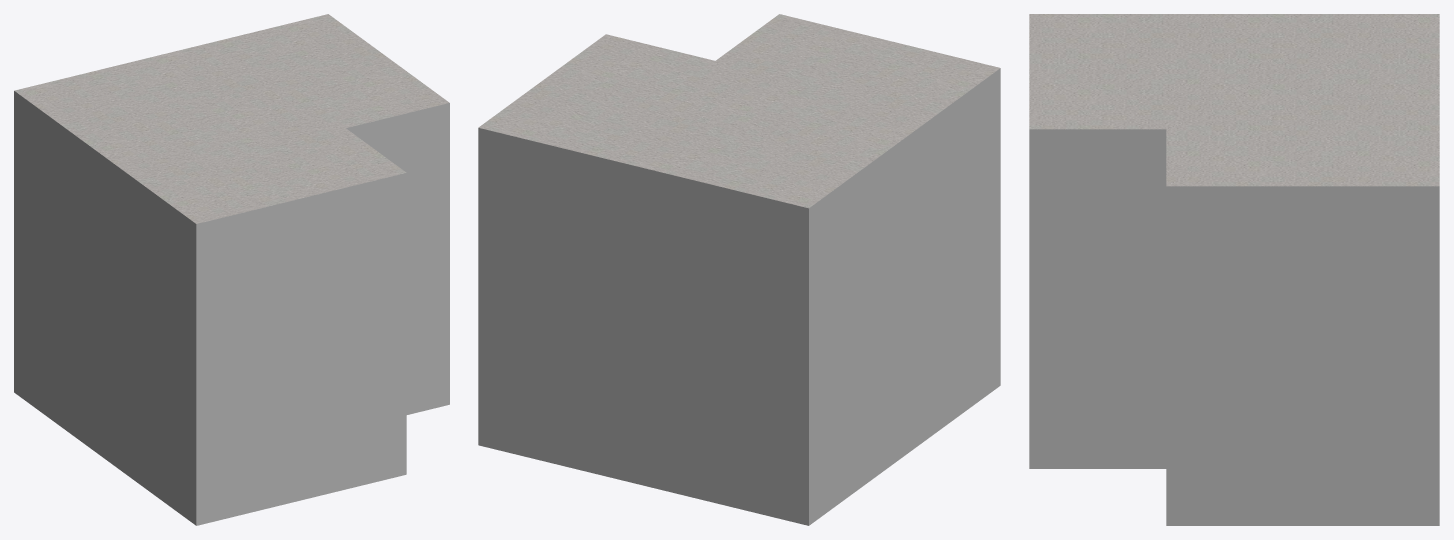
File: building4.fbx
3 views of the same model, side by side, from view 1: azimuth 30°, elevation 25°; view 2: azimuth 150°, elevation 25°; view 3: azimuth 270°, elevation 25° (orthographic). The views are drawn at different scales.
Parts seen in each view (by area): view 1: building_020.001; view 2: building_020.001; view 3: building_020.001.
Boxes of the visible parts, x1,y1,x2,y2 form: building_020.001: (14,14,449,525); building_020.001: (478,14,1000,525); building_020.001: (1029,14,1439,525).
Bounding box in the file's own units: 1308 × 1200 × 1314.
